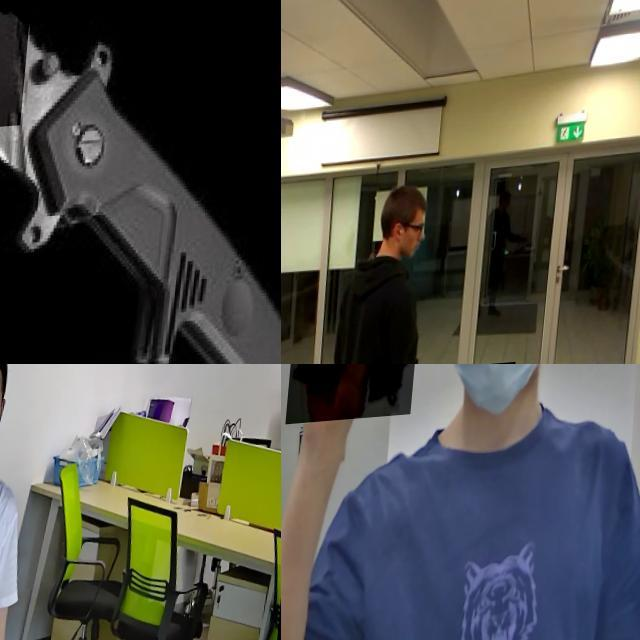-: (0, 0, 159, 151)
gun-knife-thesis - v11 Yolov5 augmented: (292, 364, 438, 521), (0, 464, 18, 595)
